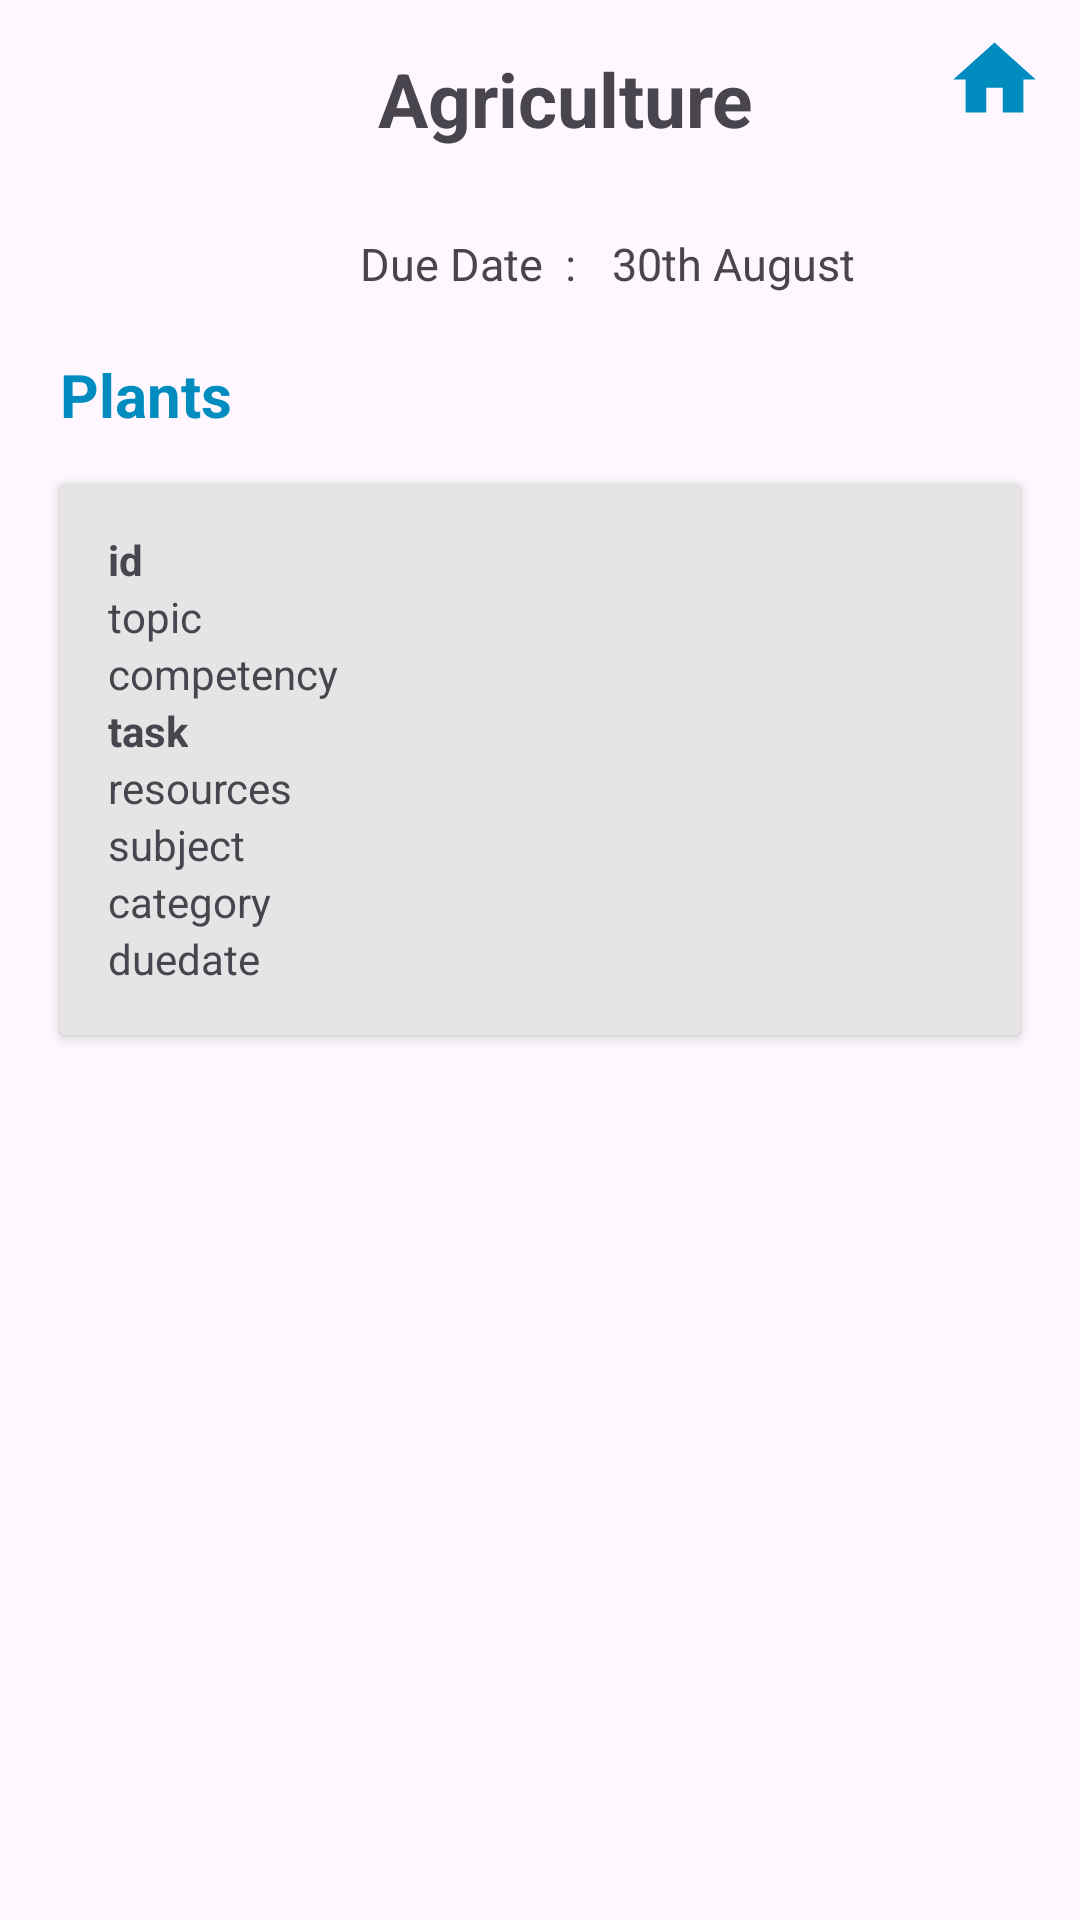

Point at icon controls on the screen. Image size 1080x1920, points as point (x, y).
home: point (994, 77)
